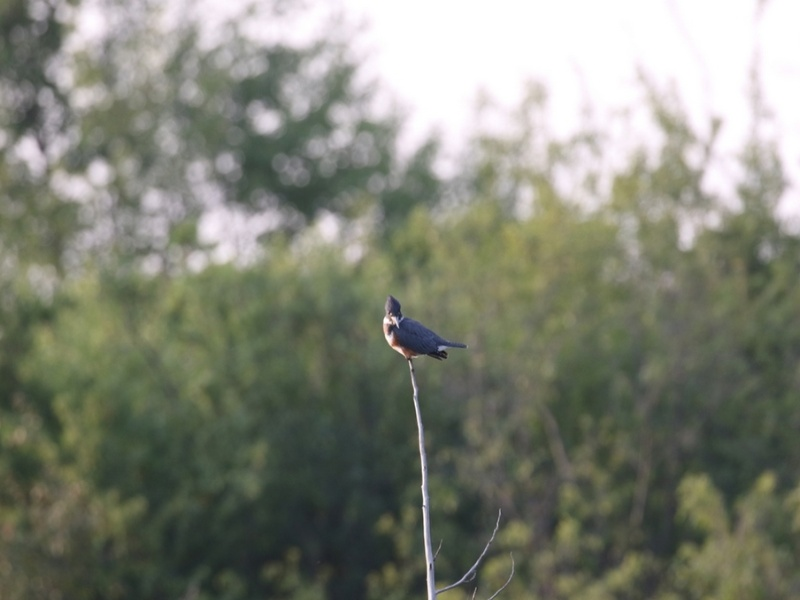kingfisher: (379, 296, 468, 361)
